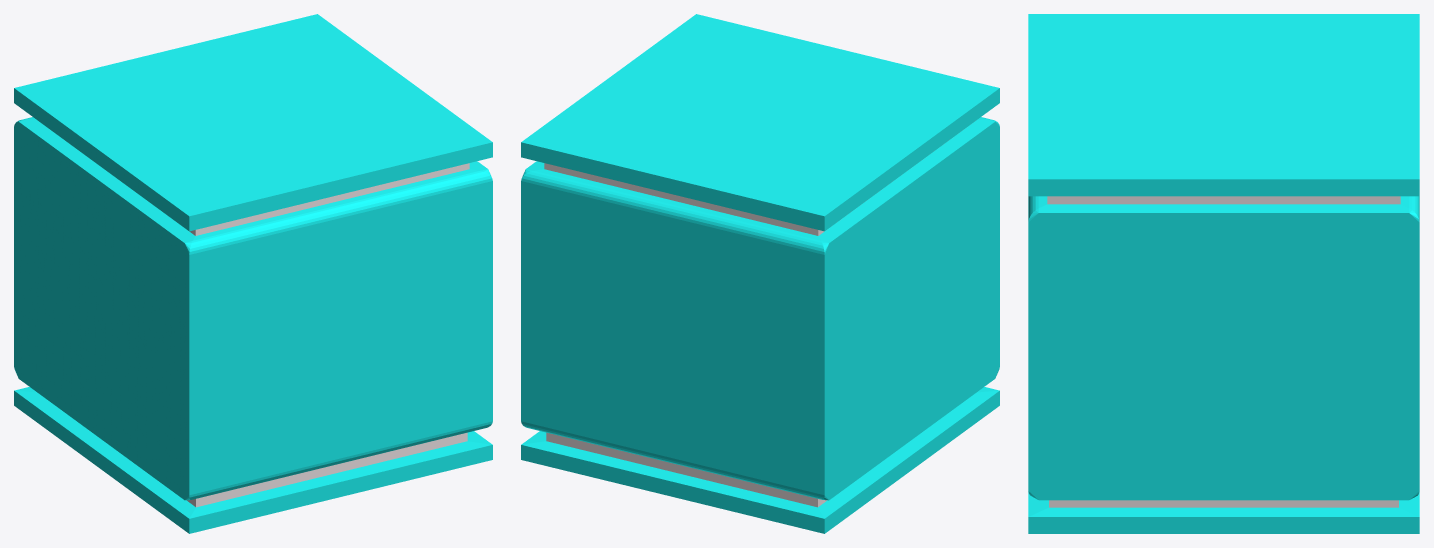
The picture shows the model from 3 angles, left to right: view 1: azimuth 30°, elevation 25°; view 2: azimuth 150°, elevation 25°; view 3: azimuth 270°, elevation 25°; orthographic projection. The views are drawn at different scales.
Visible parts, largest first — view 1: Cube; view 2: Cube; view 3: Cube.
Part boxes in pixels (<box>): Cube: <box>14,14,492,533</box>; Cube: <box>521,14,999,533</box>; Cube: <box>1028,14,1419,533</box>.
Size of the model in its own units: 200 by 200 by 200.
